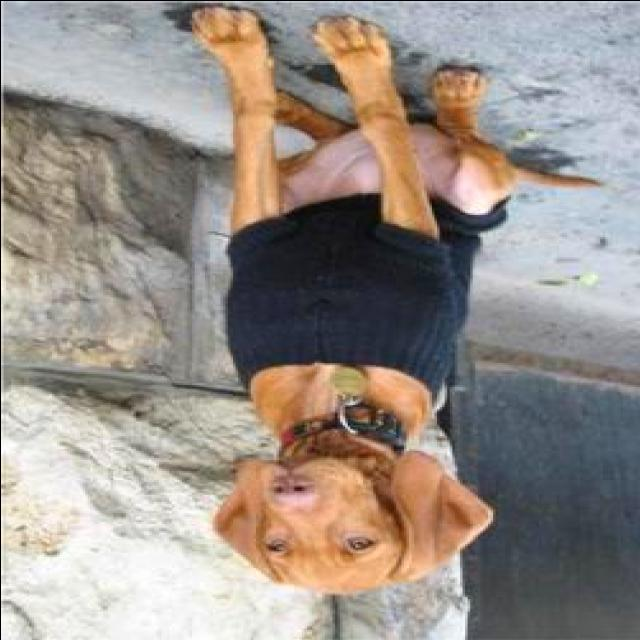vizsla: (188, 9, 602, 594)
